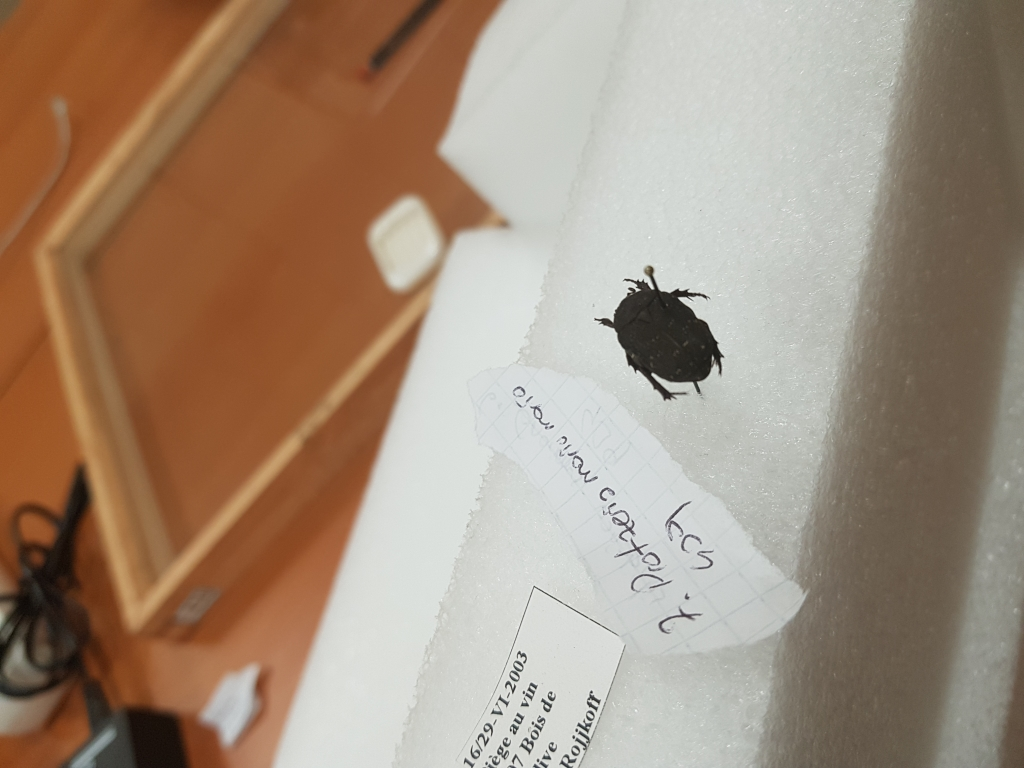Protaetia_morio_morio: (592, 267, 738, 406)
